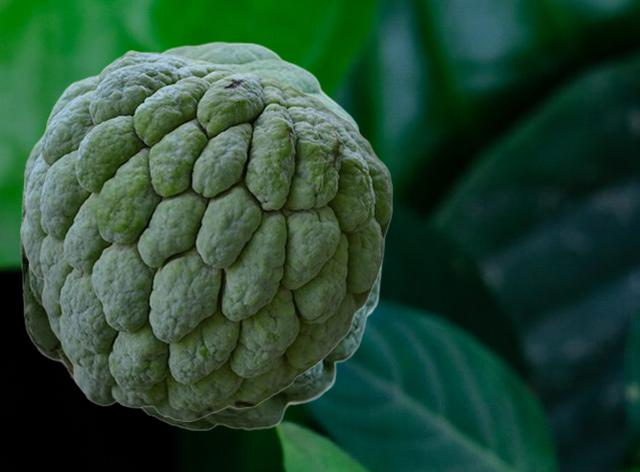atis: (20, 41, 384, 430), (20, 50, 392, 420)
